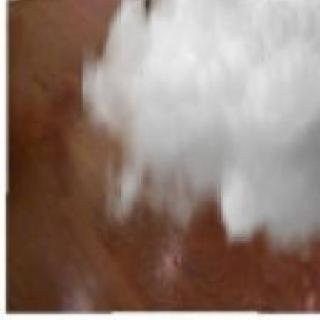smoke: (105, 0, 320, 247)
